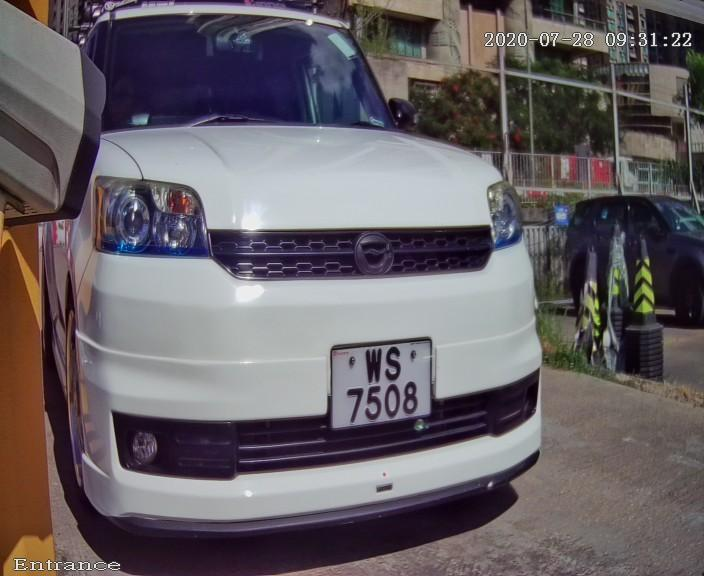privatecar: (13, 1, 617, 576)
